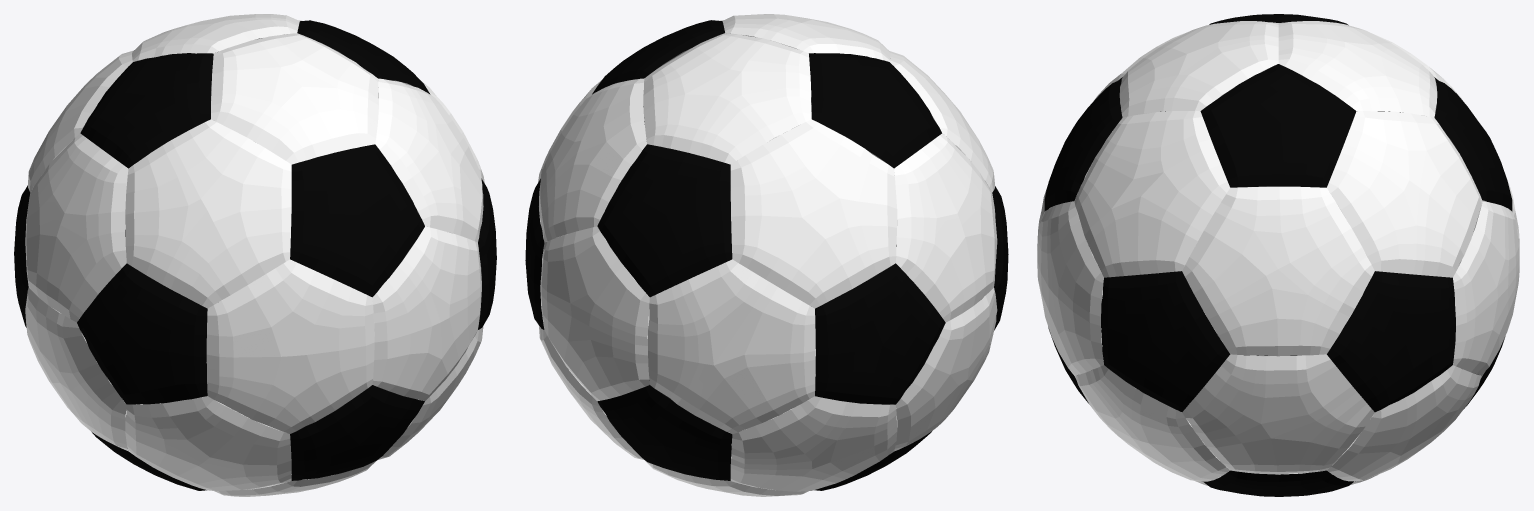
The model's file is ball.glb.
3 views of the same model, side by side, from view 1: azimuth 30°, elevation 25°; view 2: azimuth 150°, elevation 25°; view 3: azimuth 270°, elevation 25° (orthographic).
Visible parts, largest first — view 1: polySurface1152; view 2: polySurface1152; view 3: polySurface1152.
Boxes of the visible parts, left/top/right/bottom form: polySurface1152: left=14, top=14, right=496, bottom=496; polySurface1152: left=525, top=14, right=1008, bottom=496; polySurface1152: left=1037, top=14, right=1519, bottom=496.
Size of the model in its own units: 0.1578 by 0.1578 by 0.1578.
Materials: 1 (1 with a texture image).
